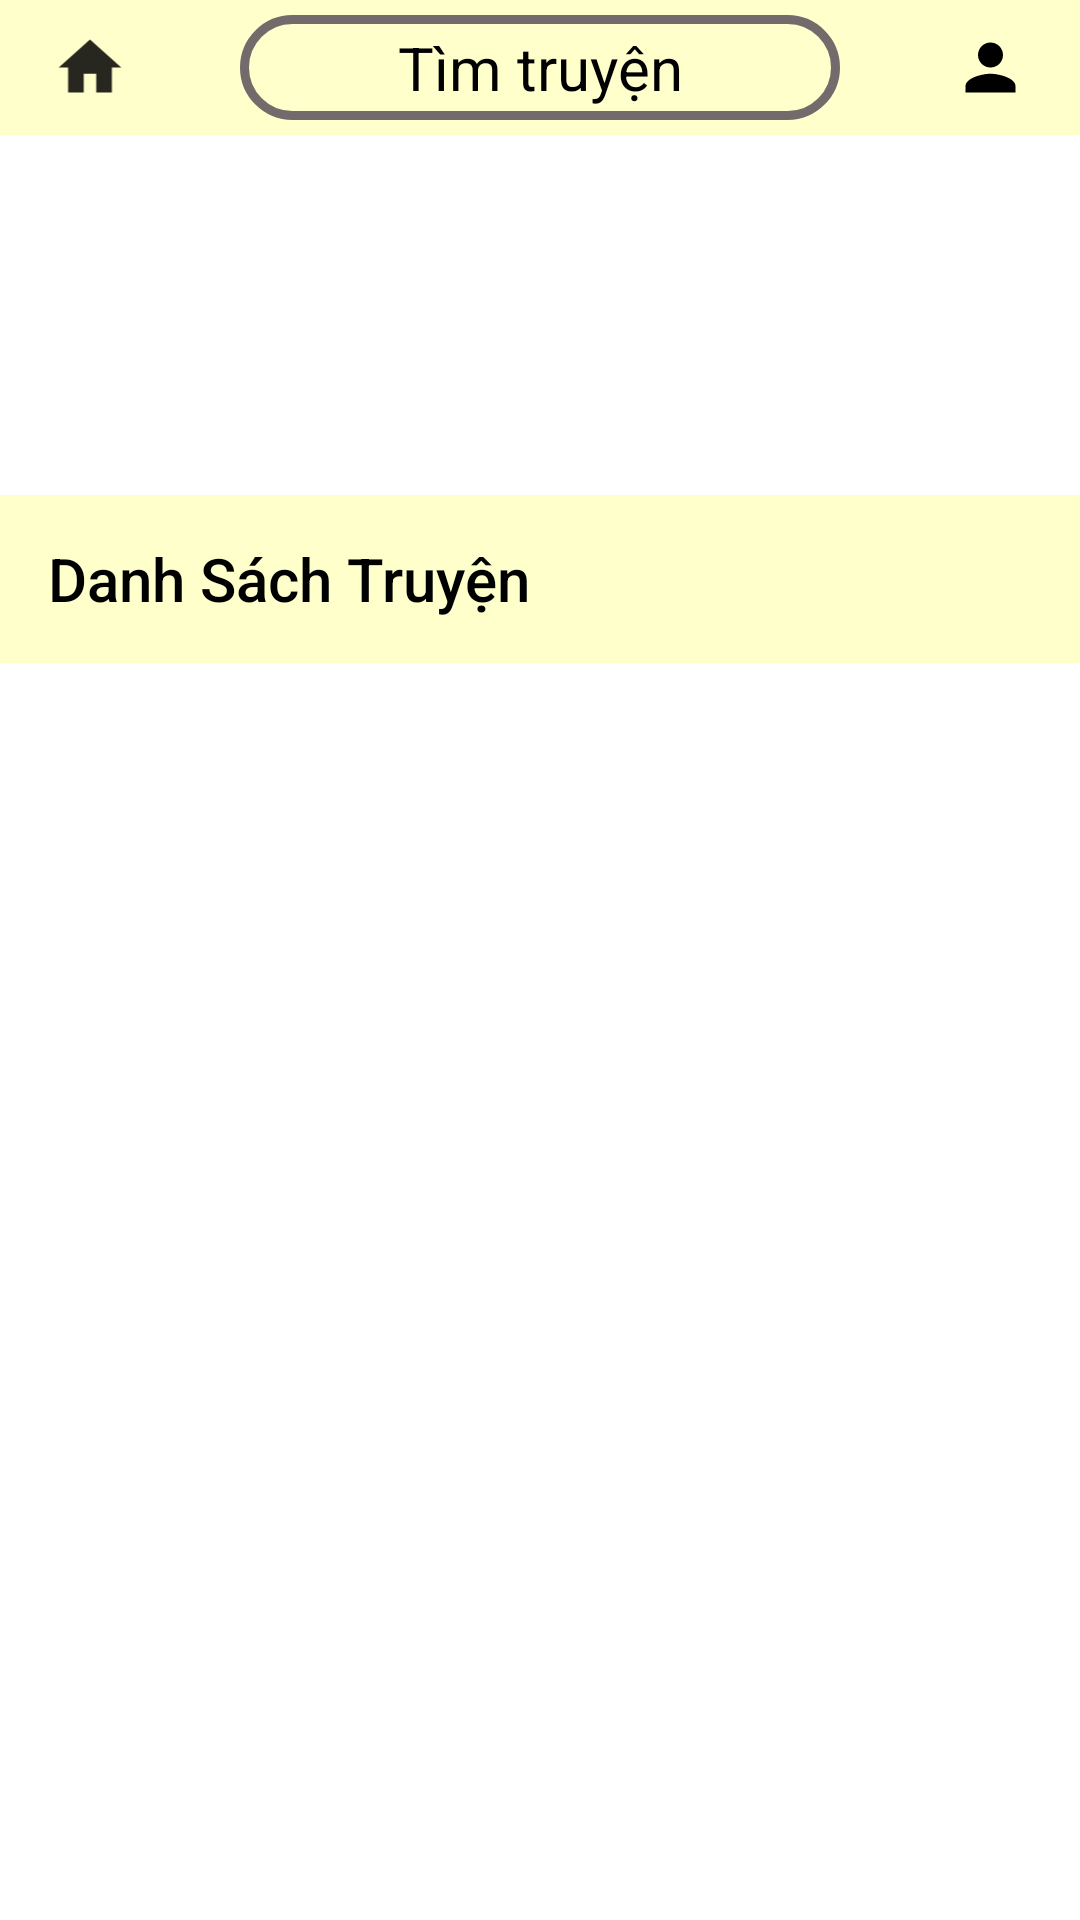

Screen size 1080 × 1920. Icon name, then its center in pixels as (x=x, y=y):
home: (x=90, y=66)
person: (x=990, y=67)
